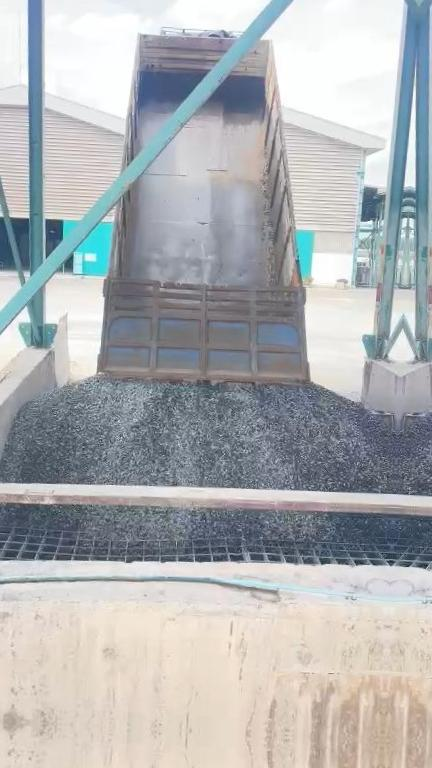gravel: (0, 377, 398, 492), (0, 505, 393, 542)
